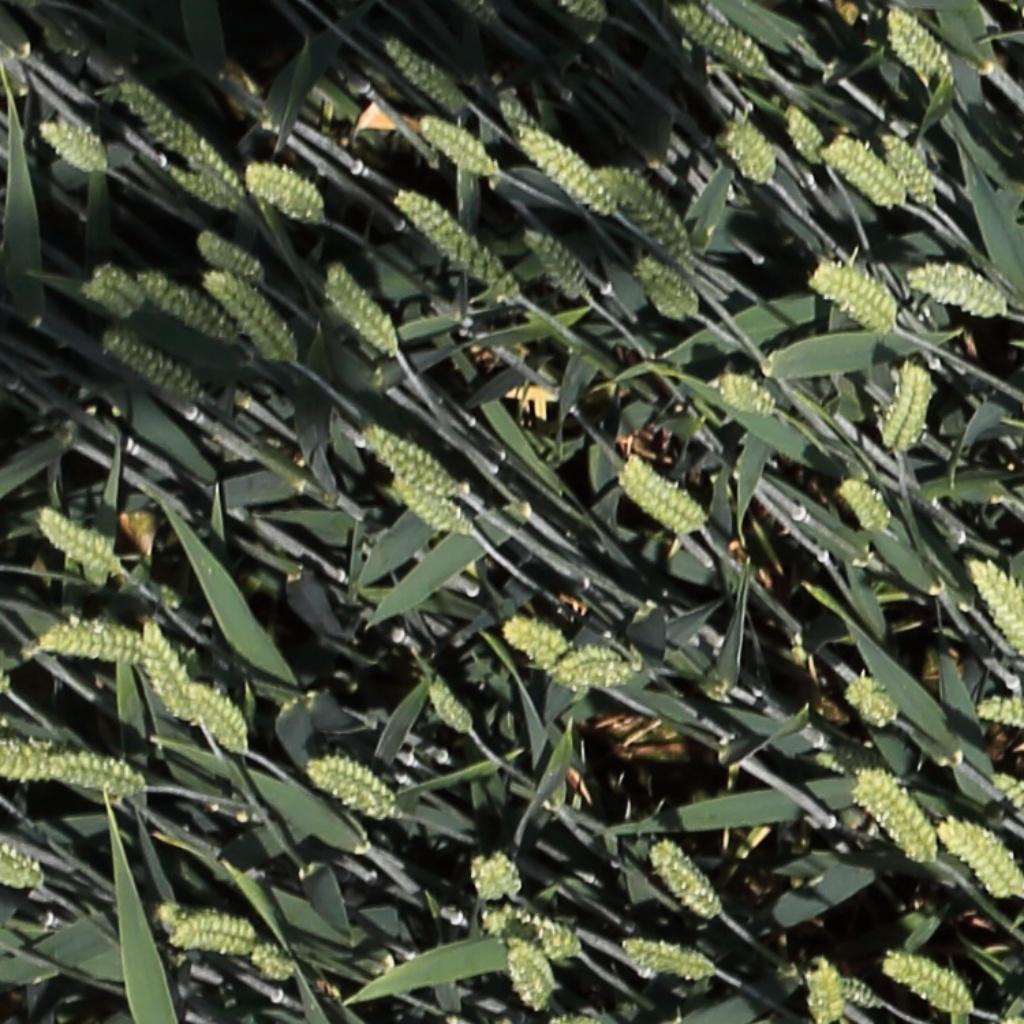0-0: (114, 80, 244, 197), (390, 185, 517, 299), (592, 162, 692, 262), (3, 738, 146, 799), (515, 129, 614, 214), (853, 768, 937, 865), (203, 270, 293, 360), (935, 815, 1024, 906), (618, 458, 709, 540), (320, 262, 398, 357), (135, 618, 205, 722), (359, 425, 458, 498), (102, 331, 202, 401), (133, 271, 229, 341), (379, 35, 462, 114), (34, 507, 122, 581), (673, 4, 764, 75), (311, 754, 398, 825), (821, 140, 906, 212), (812, 259, 896, 330), (906, 262, 1008, 319), (649, 841, 719, 924), (483, 903, 579, 961), (882, 953, 973, 1014), (416, 113, 498, 179), (879, 358, 934, 454), (238, 163, 329, 221), (520, 223, 588, 299), (970, 558, 1024, 651), (877, 124, 937, 207), (884, 8, 950, 83), (178, 684, 247, 755), (26, 622, 144, 663), (502, 933, 558, 1018), (632, 256, 698, 326), (390, 481, 469, 537), (718, 109, 775, 185), (162, 162, 240, 214), (622, 940, 719, 980), (169, 912, 261, 954), (36, 118, 108, 171), (499, 613, 569, 666), (419, 677, 475, 741), (835, 475, 891, 537), (193, 230, 262, 279), (780, 99, 828, 167), (469, 850, 520, 906), (843, 678, 898, 729), (555, 648, 629, 685), (81, 268, 141, 311), (718, 374, 775, 416), (804, 954, 839, 1021), (0, 839, 45, 888), (991, 772, 1024, 834), (495, 92, 541, 133), (248, 938, 294, 978), (970, 694, 1024, 727), (834, 978, 883, 1008), (561, 0, 606, 23)
